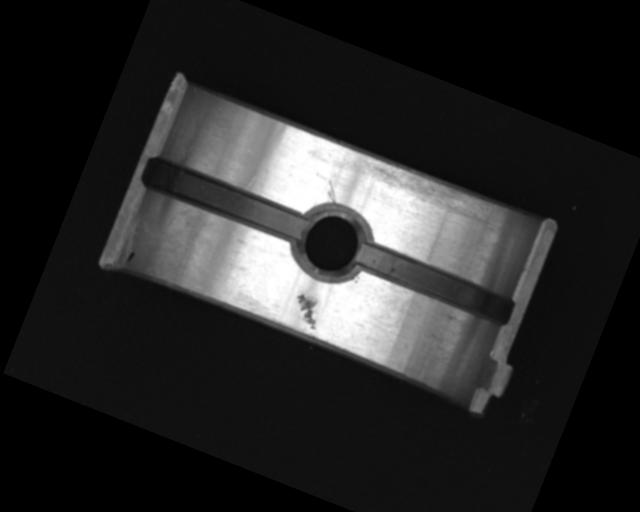blot: (123, 248, 137, 266)
bruise: (287, 288, 329, 331)
gap: (139, 153, 312, 247), (352, 237, 518, 328)
hole: (286, 195, 380, 289)
nick: (321, 180, 343, 205)
scratch: (355, 149, 507, 234)
